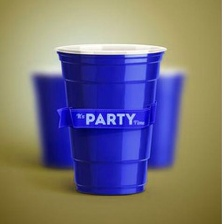glass: (52, 39, 168, 201)
